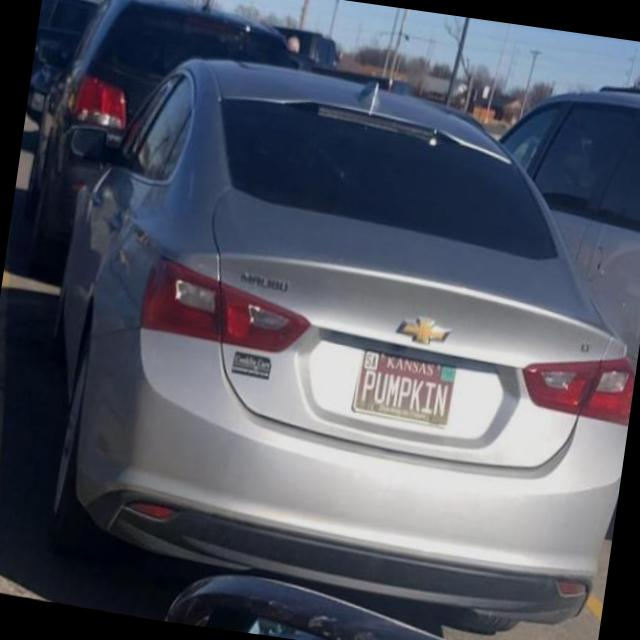LicensePlate: (350, 343, 458, 429)
